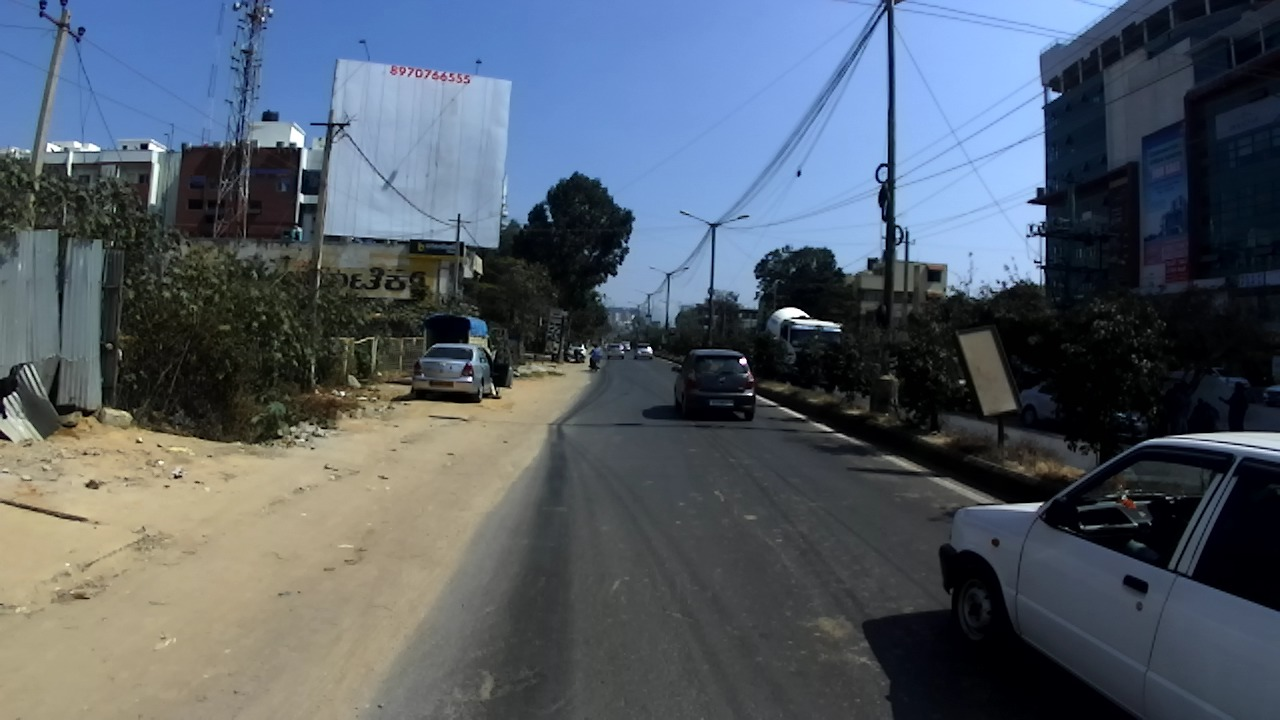car: (938, 430, 1280, 720), (1019, 374, 1153, 436), (670, 348, 756, 422), (410, 343, 512, 403), (1209, 366, 1252, 389), (1261, 378, 1279, 409), (567, 341, 587, 361), (633, 342, 654, 361), (607, 344, 626, 360)
motorcycle: (572, 347, 586, 363), (590, 353, 601, 372)
person: (1216, 380, 1252, 431), (1160, 383, 1179, 436), (1176, 383, 1193, 434), (551, 347, 558, 361)
rider: (588, 342, 602, 369), (489, 376, 501, 399)
truck: (767, 307, 845, 392), (424, 313, 491, 357)
vehicle fallback: (941, 358, 976, 410), (622, 341, 631, 352), (564, 348, 570, 363), (603, 341, 608, 350)
